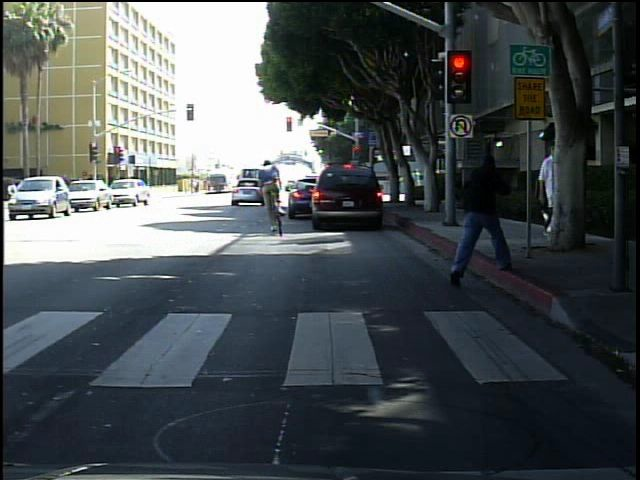person: (449, 141, 516, 288), (234, 151, 297, 226), (535, 139, 572, 243), (532, 136, 563, 243)
